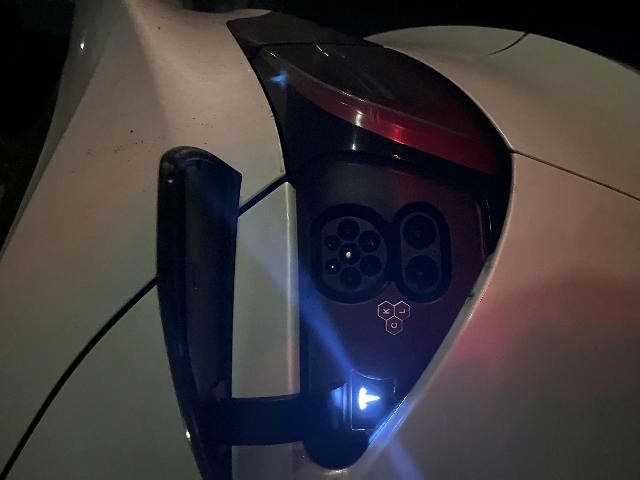inlet: (187, 321, 264, 387)
inlet-above-left: (206, 324, 221, 341)
inlet-above-right: (230, 324, 245, 340)
inlet-below-left: (203, 359, 226, 381)
inlet-below-right: (227, 358, 250, 380)
inlet-circle: (214, 338, 238, 360)
inlet-circle-left: (191, 339, 213, 361)
inlet-circle-right: (239, 338, 261, 360)
inlet-minus: (230, 403, 265, 437)
inlet-plus: (190, 405, 225, 439)
